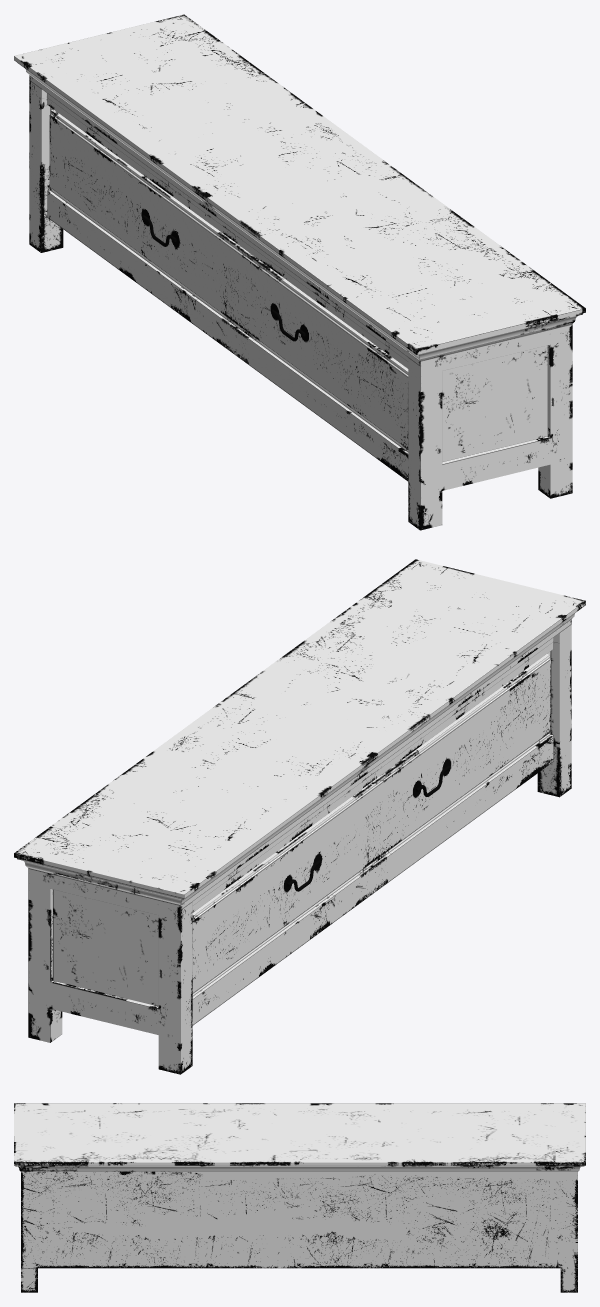
The model's file is SM_Chest.fbx.
The picture shows the model from 3 angles, top to bottom: view 1: azimuth 30°, elevation 25°; view 2: azimuth 150°, elevation 25°; view 3: azimuth 270°, elevation 25°; orthographic projection. The views are drawn at different scales.
Parts seen in each view (by area): view 1: SM_Chest_LOD0; view 2: SM_Chest_LOD0; view 3: SM_Chest_LOD0.
Boxes of the visible parts, left/top/right/bottom form: SM_Chest_LOD0: left=14, top=14, right=585, bottom=530; SM_Chest_LOD0: left=14, top=559, right=585, bottom=1074; SM_Chest_LOD0: left=14, top=1103, right=585, bottom=1292.
Size of the model in its own units: 41.67 by 170 by 43.57.
